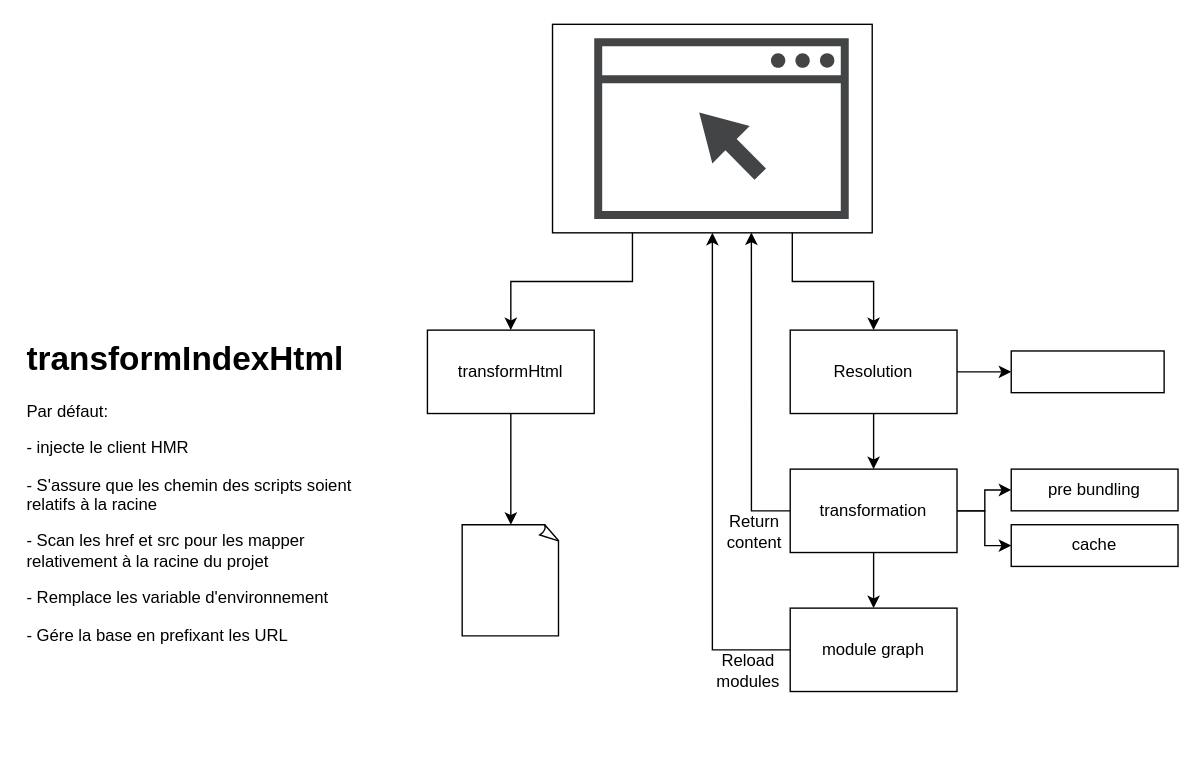
Some shapes in this 1202 by 776 pixel diagram are drawn without their labels. The box of each missing label's shape, as (x1, y1, x2, y2) in pixels:
Filesystem: (1010, 350, 1164, 393)
HRM client: (594, 38, 848, 218)
index.html: (461, 523, 559, 636)
